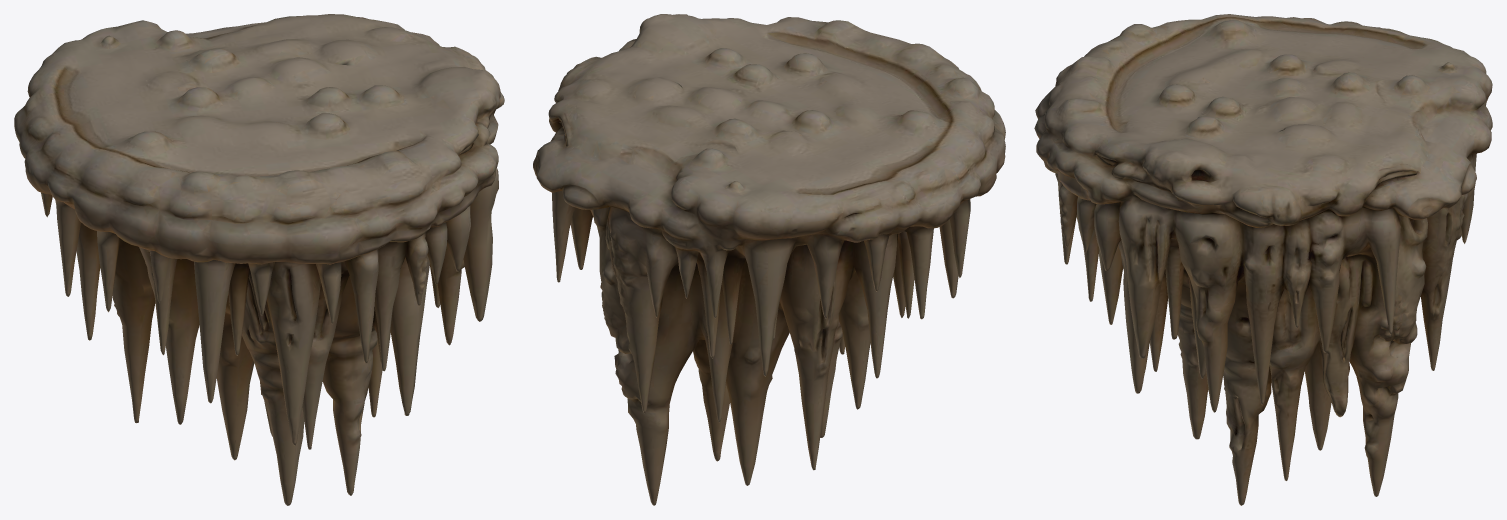
File: cav_stalactite_ceiling_cluster_LOD0.glb
3 renders of one model, left to right at view 1: azimuth 30°, elevation 25°; view 2: azimuth 150°, elevation 25°; view 3: azimuth 270°, elevation 25°, orthographic. The views are drawn at different scales.
Visible parts, largest first — view 1: tripo_node_cf9095d3-c141-4859-948e-a06c82a533c3; view 2: tripo_node_cf9095d3-c141-4859-948e-a06c82a533c3; view 3: tripo_node_cf9095d3-c141-4859-948e-a06c82a533c3.
Part boxes in pixels (x1,y1,x2,y2): tripo_node_cf9095d3-c141-4859-948e-a06c82a533c3: (14, 14, 504, 505); tripo_node_cf9095d3-c141-4859-948e-a06c82a533c3: (533, 14, 1005, 505); tripo_node_cf9095d3-c141-4859-948e-a06c82a533c3: (1034, 14, 1492, 505).
Size of the model in its own units: 0.998 by 0.9434 by 0.9863.
1 material, 1 textured.
